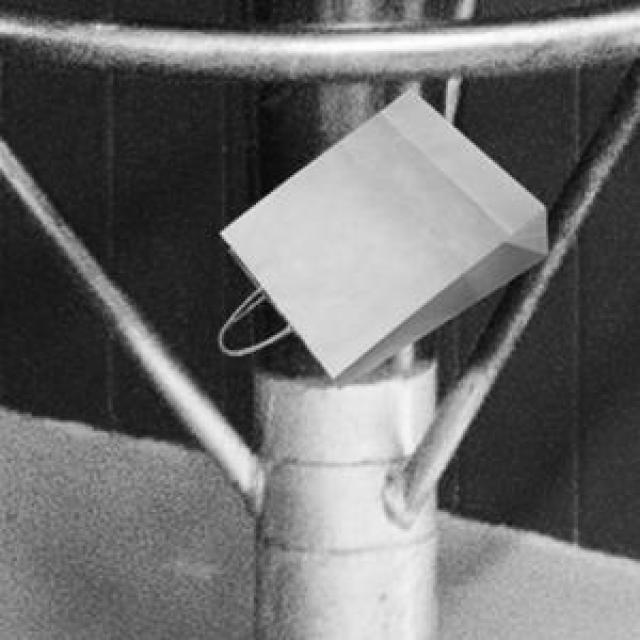paper: (216, 85, 544, 384)
